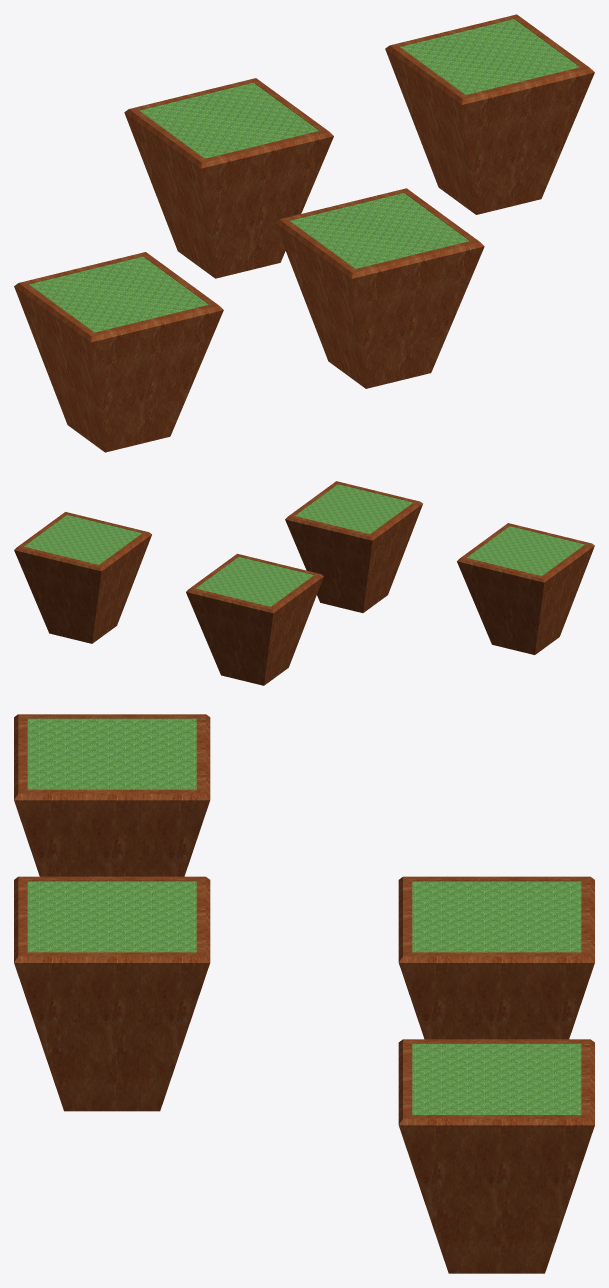
The model's file is course_cube.glb.
3 views of the same model, one above another, from view 1: azimuth 30°, elevation 25°; view 2: azimuth 150°, elevation 25°; view 3: azimuth 270°, elevation 25° (orthographic). The views are drawn at different scales.
Visible parts, largest first — view 1: Cube.003, Cube, Cube.002, Cube.001; view 2: Cube.001, Cube.003, Cube, Cube.002; view 3: Cube.002, Cube, Cube.001, Cube.003.
Part boxes in pixels (<box>): Cube.003: <box>14,252,223,452</box>; Cube: <box>385,14,594,214</box>; Cube.002: <box>275,188,484,388</box>; Cube.001: <box>124,78,333,278</box>; Cube.001: <box>186,553,323,685</box>; Cube.003: <box>457,523,594,654</box>; Cube: <box>14,512,151,643</box>; Cube.002: <box>285,481,422,612</box>; Cube.002: <box>14,876,210,1111</box>; Cube: <box>398,1039,594,1273</box>; Cube.001: <box>398,876,594,1039</box>; Cube.003: <box>14,714,210,876</box>.
Size of what is drawn, in the model's own units: 1004 by 200 by 604.
Materials: 3 (2 with a texture image).
